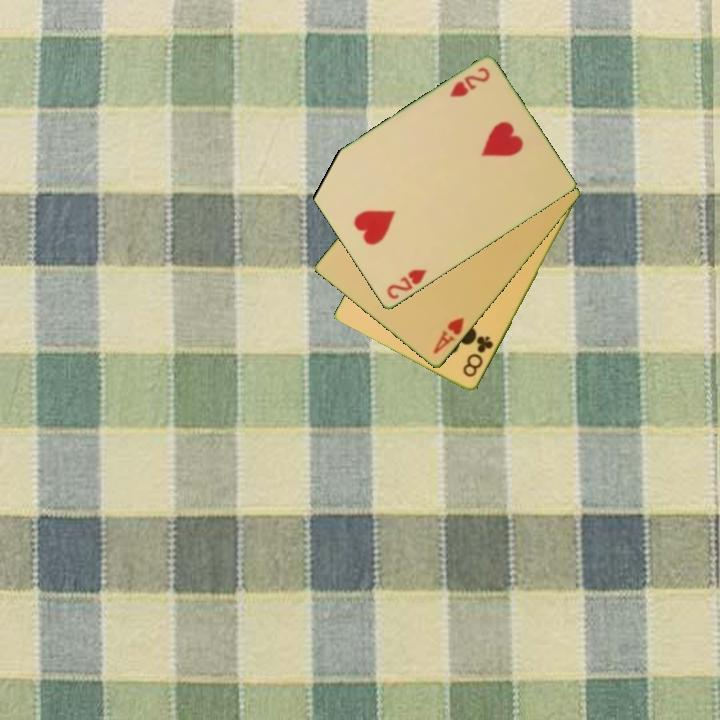2h: (383, 266, 430, 303), (446, 64, 493, 101)
8c: (459, 332, 496, 381)
Ah: (429, 314, 467, 357)
